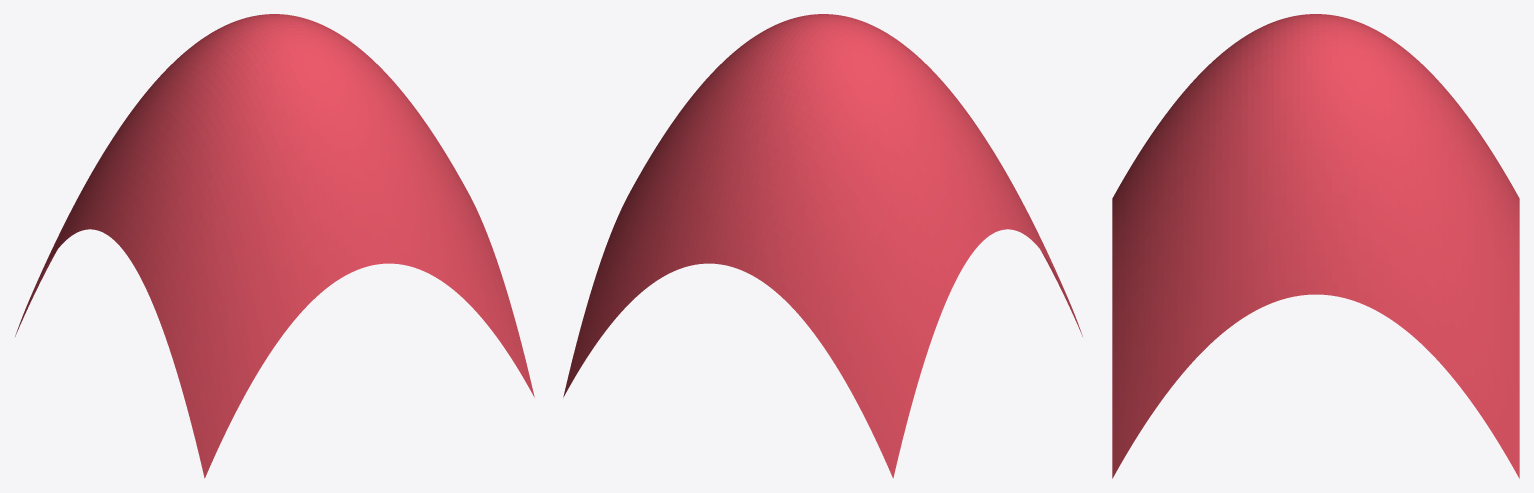
The model's file is parabola.glb.
The picture shows the model from 3 angles, left to right: view 1: azimuth 30°, elevation 25°; view 2: azimuth 150°, elevation 25°; view 3: azimuth 270°, elevation 25°; orthographic projection. The views are drawn at different scales.
Visible parts, largest first — view 1: Z Function; view 2: Z Function; view 3: Z Function.
Boxes of the visible parts, box(x1,y1,x2,y2) form: Z Function: box(15, 14, 534, 478); Z Function: box(563, 14, 1082, 478); Z Function: box(1112, 14, 1519, 478).
Bounding box in the file's own units: 3.14 × 3.14 × 3.14.
